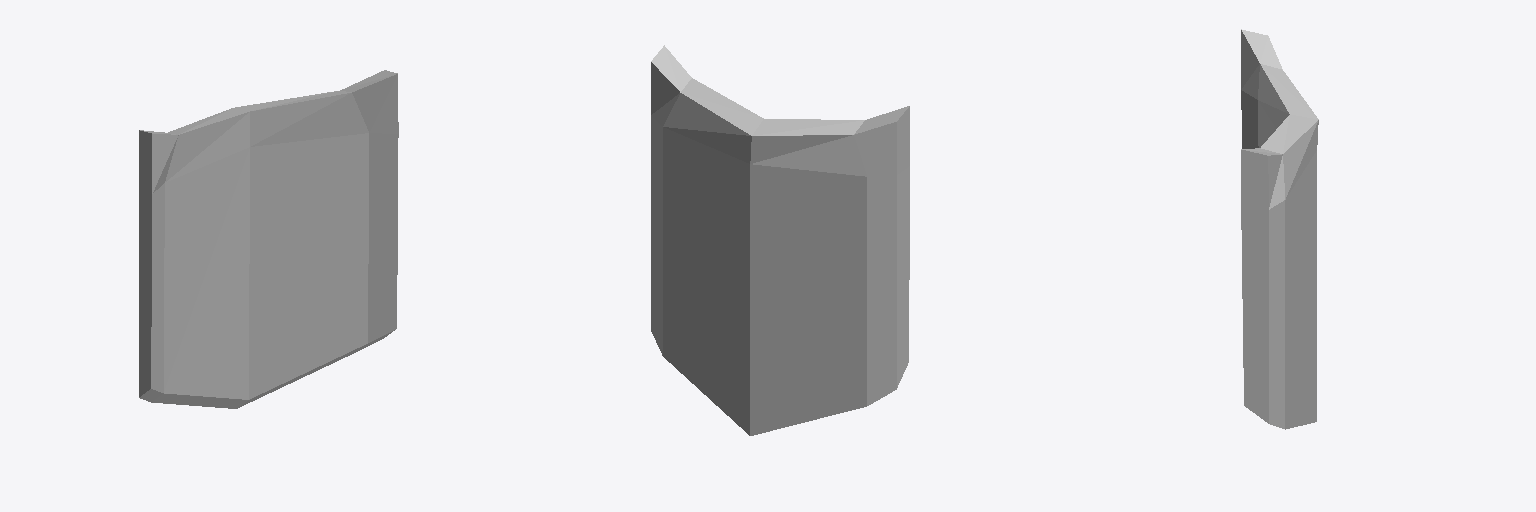
The model's file is ArmorPickupModel.obj.
3 views of the same model, side by side, from view 1: azimuth 30°, elevation 25°; view 2: azimuth 150°, elevation 25°; view 3: azimuth 270°, elevation 25° (orthographic).
Parts seen in each view (by area): view 1: ArmorPickupModel; view 2: ArmorPickupModel; view 3: ArmorPickupModel.
Part boxes in pixels (left/top/right/bottom): ArmorPickupModel: left=139, top=70, right=398, bottom=408; ArmorPickupModel: left=651, top=45, right=909, bottom=435; ArmorPickupModel: left=1241, top=29, right=1318, bottom=429.
Size of the model in its own units: 1.2 by 1.56 by 0.3287.